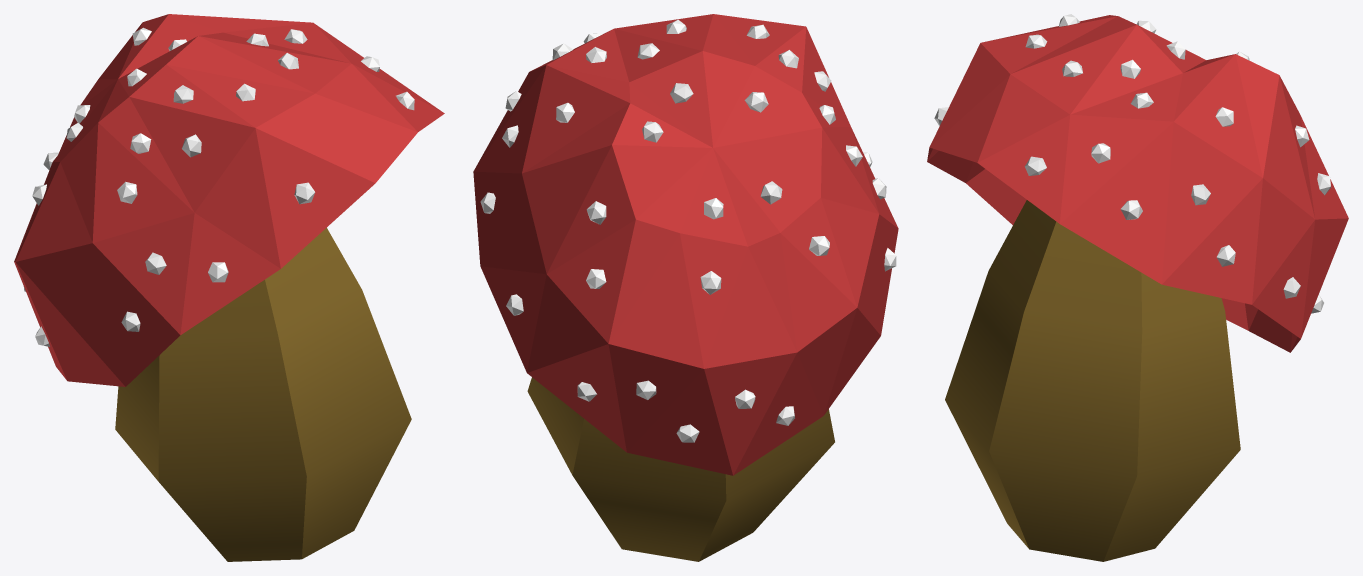
Rendered from Foret.fbx.
3 views of the same model, side by side, from view 1: azimuth 30°, elevation 25°; view 2: azimuth 150°, elevation 25°; view 3: azimuth 270°, elevation 25° (orthographic). The views are drawn at different scales.
Visible parts, largest first — view 1: Sphere, Cylinder; view 2: Sphere, Cylinder; view 3: Sphere, Cylinder.
Boxes of the visible parts, x1=… form: Sphere: x1=14, y1=14, x2=444, y2=386; Cylinder: x1=115, y1=227, x2=411, y2=561; Sphere: x1=473, y1=14, x2=898, y2=475; Cylinder: x1=527, y1=377, x2=834, y2=561; Sphere: x1=927, y1=15, x2=1348, y2=352; Cylinder: x1=945, y1=200, x2=1240, y2=561.
Bounding box in the file's own units: 36.44 × 46.16 × 35.63.
